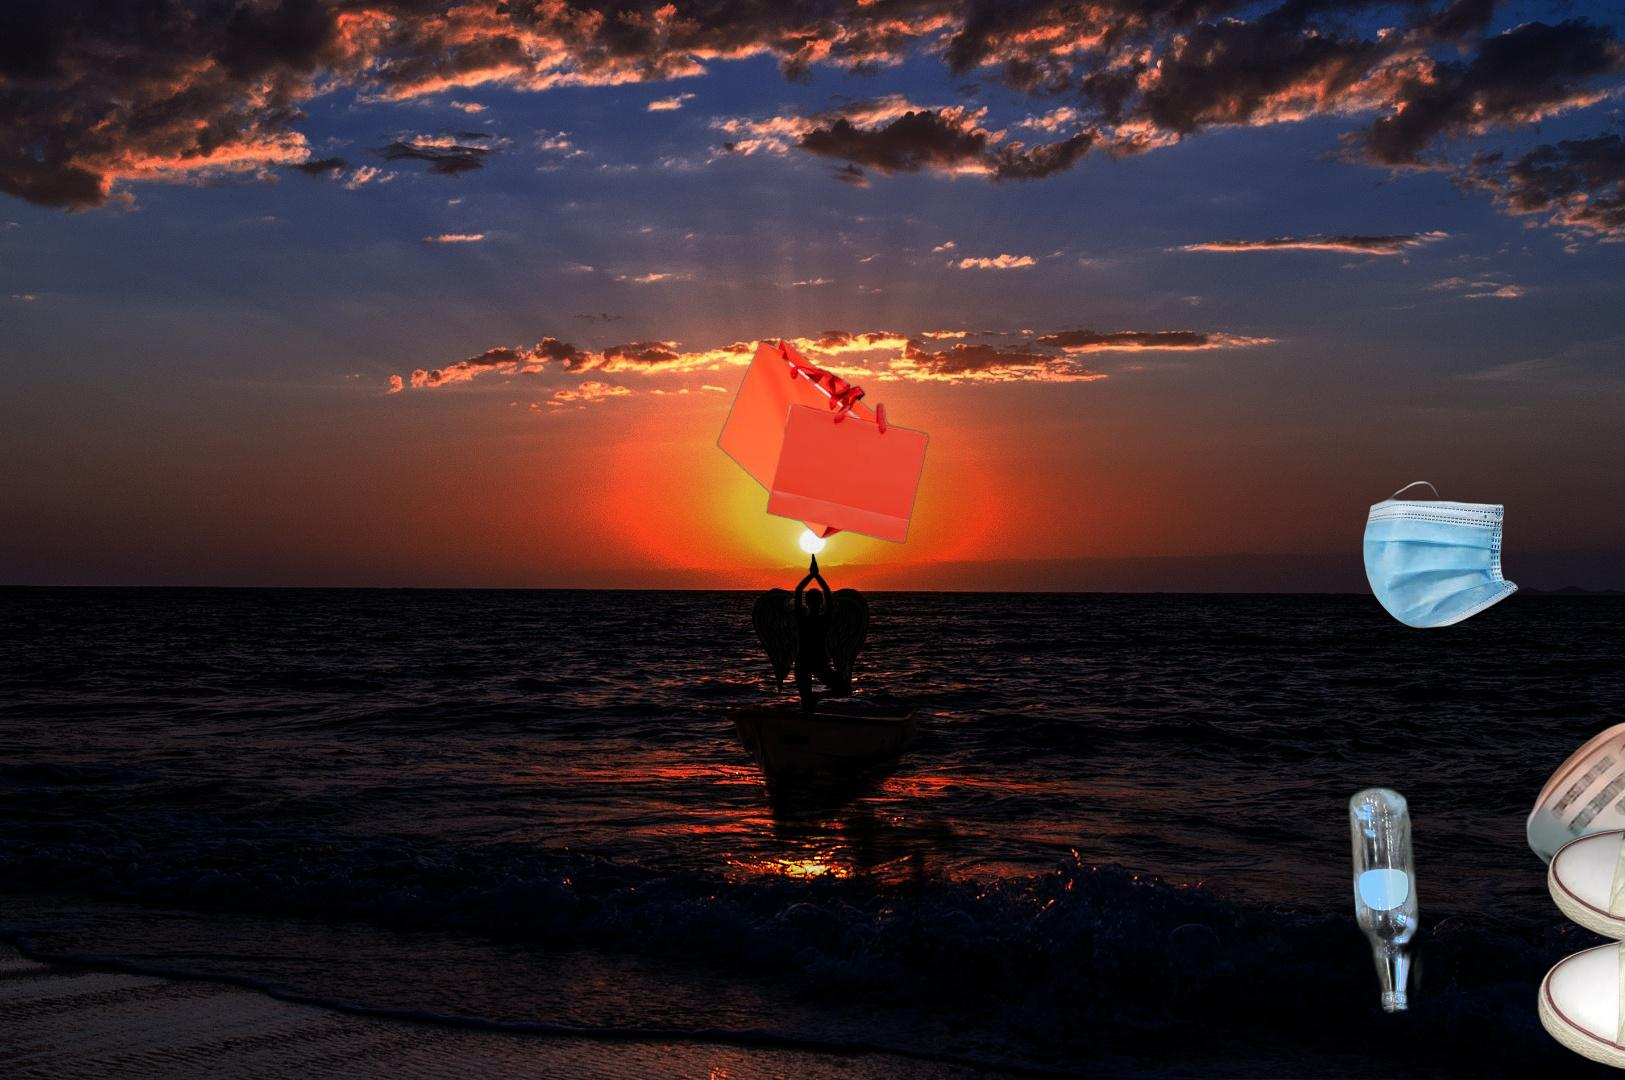glass: (1344, 698, 1625, 1019)
metal-cans: (1498, 714, 1625, 994)
paper: (1183, 1078, 1584, 1080)
paper-bag: (714, 335, 931, 546)
shoes: (1533, 808, 1625, 1080)
trash: (1360, 479, 1521, 630)
